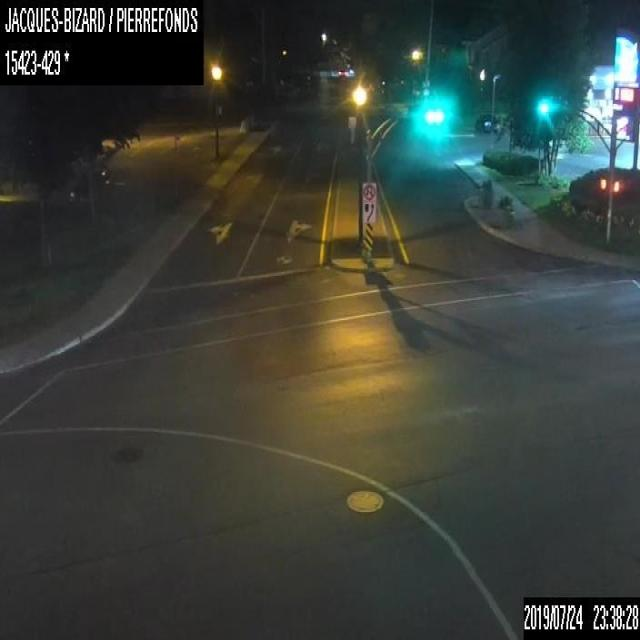vehicle: (474, 113, 498, 132)
